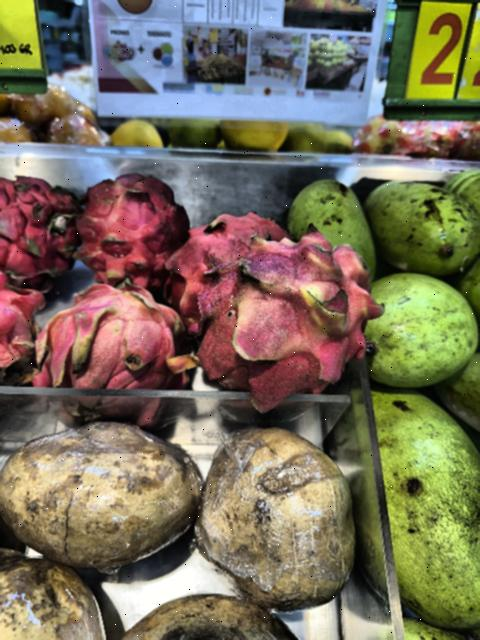buah-naga-belum-matang: (204, 236, 372, 400), (38, 278, 202, 426)
buah-naga-matang: (70, 172, 196, 284), (160, 204, 290, 304), (0, 173, 78, 283), (0, 286, 42, 384)
